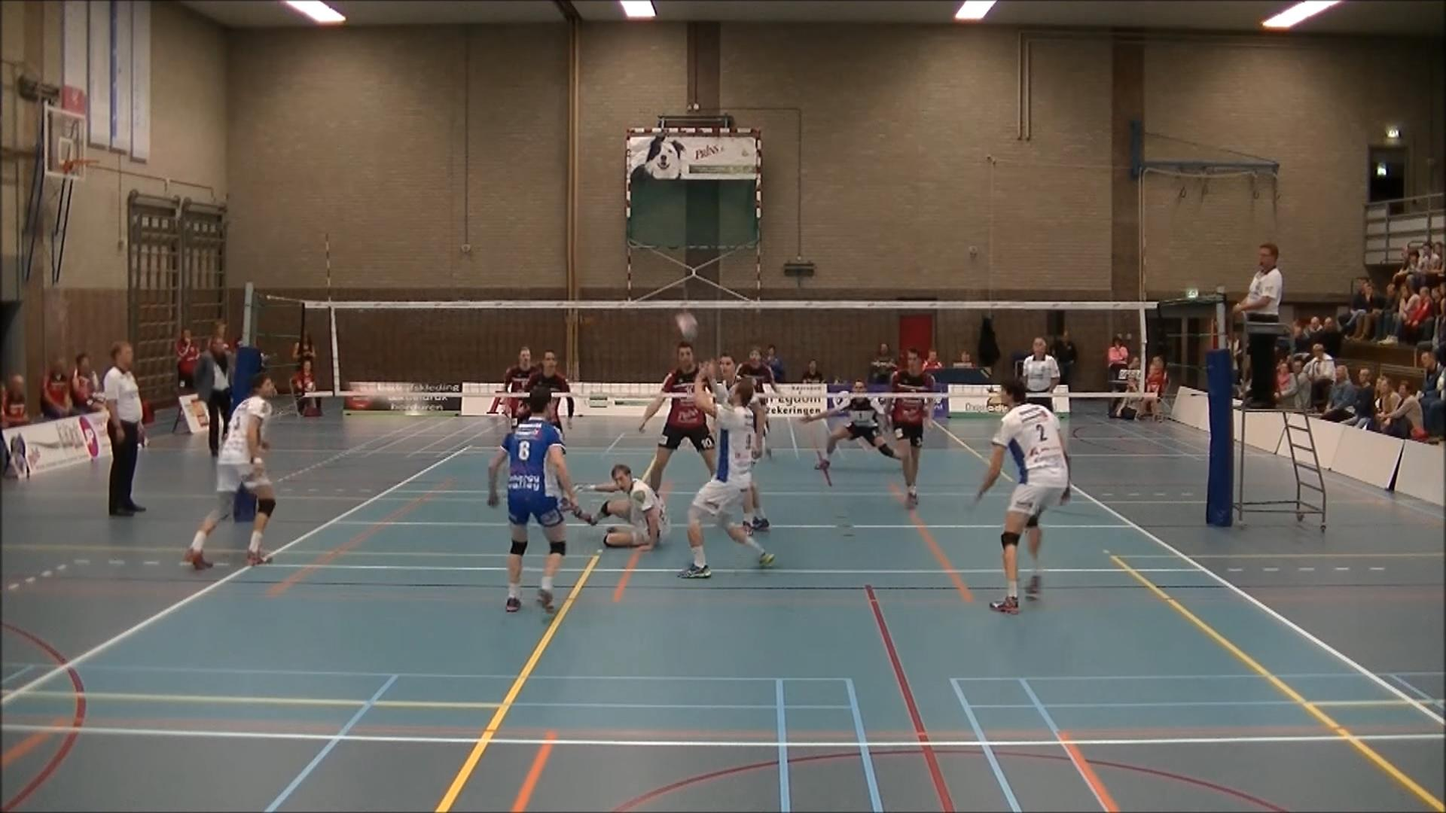alzata: (682, 357, 777, 582)
